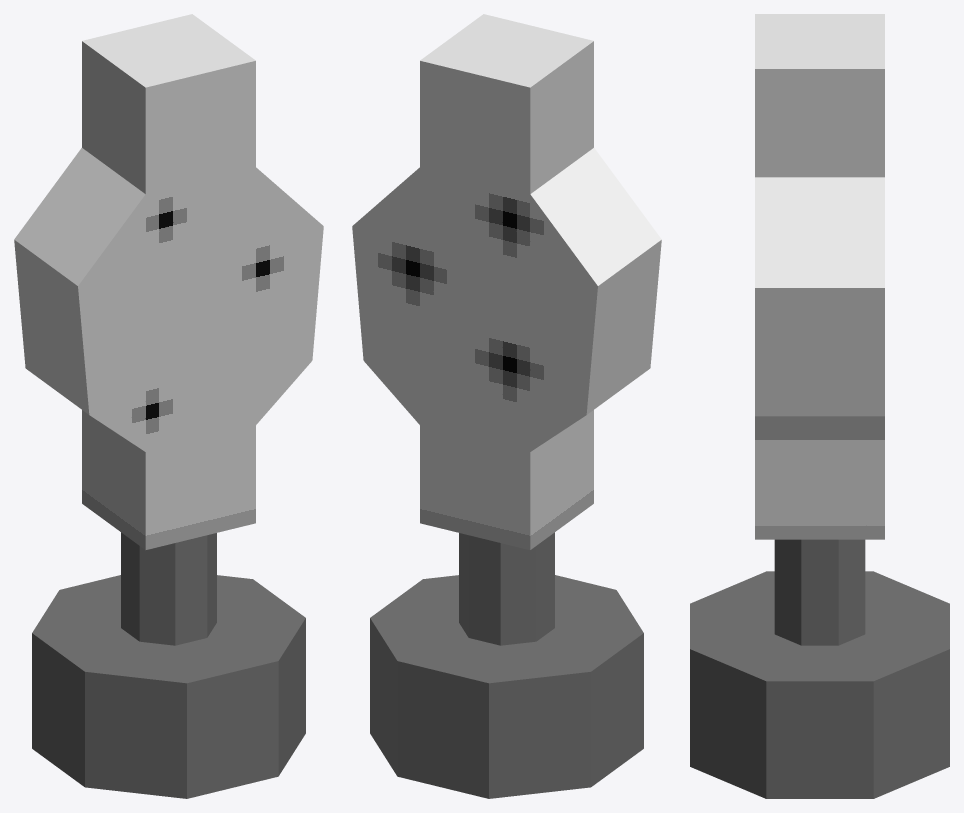
The model's file is dummy.gltf.
3 views of the same model, side by side, from view 1: azimuth 30°, elevation 25°; view 2: azimuth 150°, elevation 25°; view 3: azimuth 270°, elevation 25° (orthographic).
Parts seen in each view (by area): view 1: body, base, tube; view 2: body, base, tube; view 3: body, base, tube.
Part boxes in pixels (box(x1,y1,x2,y2)): body: box(14, 14, 323, 549); base: box(32, 575, 305, 798); tube: box(121, 532, 216, 645); body: box(352, 14, 661, 549); base: box(370, 575, 643, 798); tube: box(459, 532, 554, 645); body: box(755, 14, 884, 539); base: box(690, 571, 949, 798); tube: box(774, 539, 865, 645).
Size of the model in its own units: 0.5562 by 1.49 by 0.5.
1 material, 1 textured.
